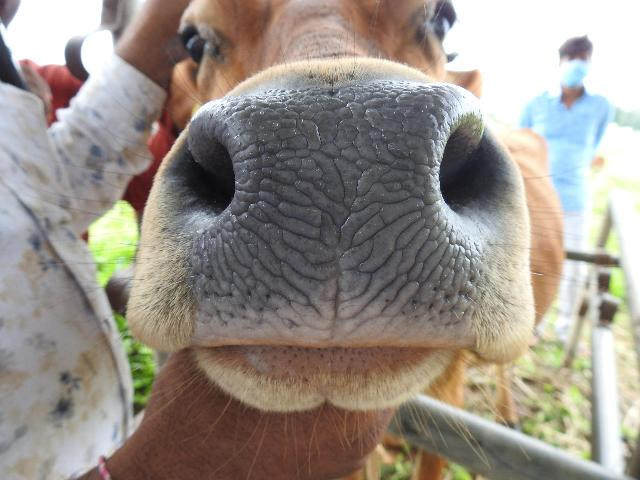Muzzle: (180, 96, 490, 336)
